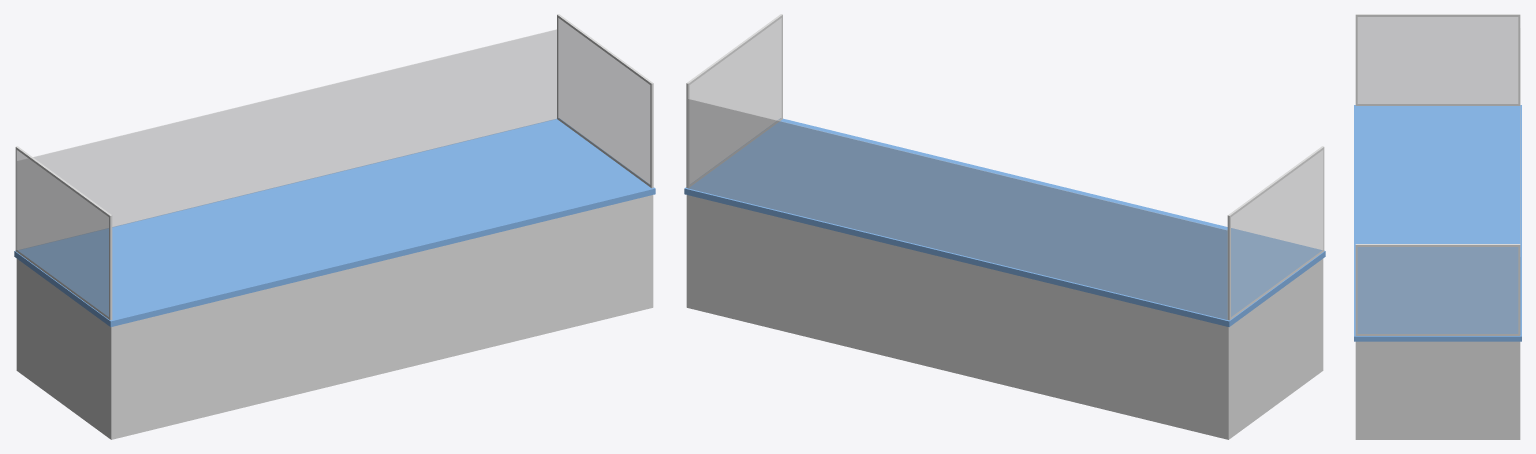
The model's file is desk.glb.
The picture shows the model from 3 angles, left to right: view 1: azimuth 30°, elevation 25°; view 2: azimuth 150°, elevation 25°; view 3: azimuth 270°, elevation 25°; orthographic projection. The views are drawn at different scales.
Visible parts, largest first — view 1: Desk, Glass3, Glass2, Glass1; view 2: Desk, Glass3, Glass2, Glass1; view 3: Desk, Glass1, Glass2, Glass3.
Boxes of the visible parts, x1,y1,x2,y2 form: Desk: (14, 118, 655, 439); Glass3: (17, 29, 556, 250); Glass2: (15, 146, 112, 320); Glass1: (557, 14, 653, 188); Desk: (684, 118, 1325, 439); Glass3: (688, 99, 1227, 319); Glass2: (1227, 146, 1324, 320); Glass1: (686, 14, 782, 187); Desk: (1354, 105, 1521, 439); Glass1: (1355, 244, 1520, 335); Glass2: (1355, 14, 1520, 105); Glass3: (1520, 28, 1520, 334).
Size of the model in its own units: 3.82 by 1.5 by 1.17.
